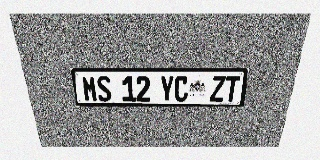1: (121, 76, 136, 102)
2: (136, 76, 150, 102)
C: (174, 76, 189, 102)
M: (81, 76, 98, 101)
S: (96, 76, 112, 101)
T: (224, 76, 241, 102)
Y: (160, 76, 174, 102)
Z: (210, 76, 226, 102)
